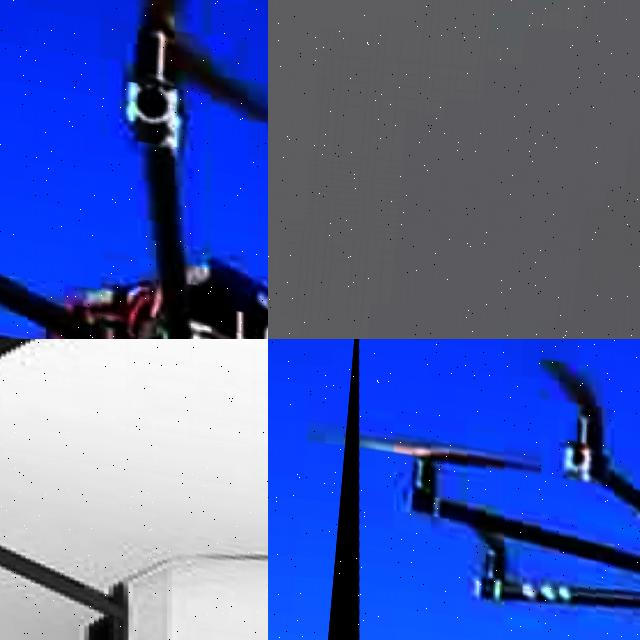drone: (313, 339, 640, 640), (0, 0, 268, 339), (0, 339, 268, 640)
